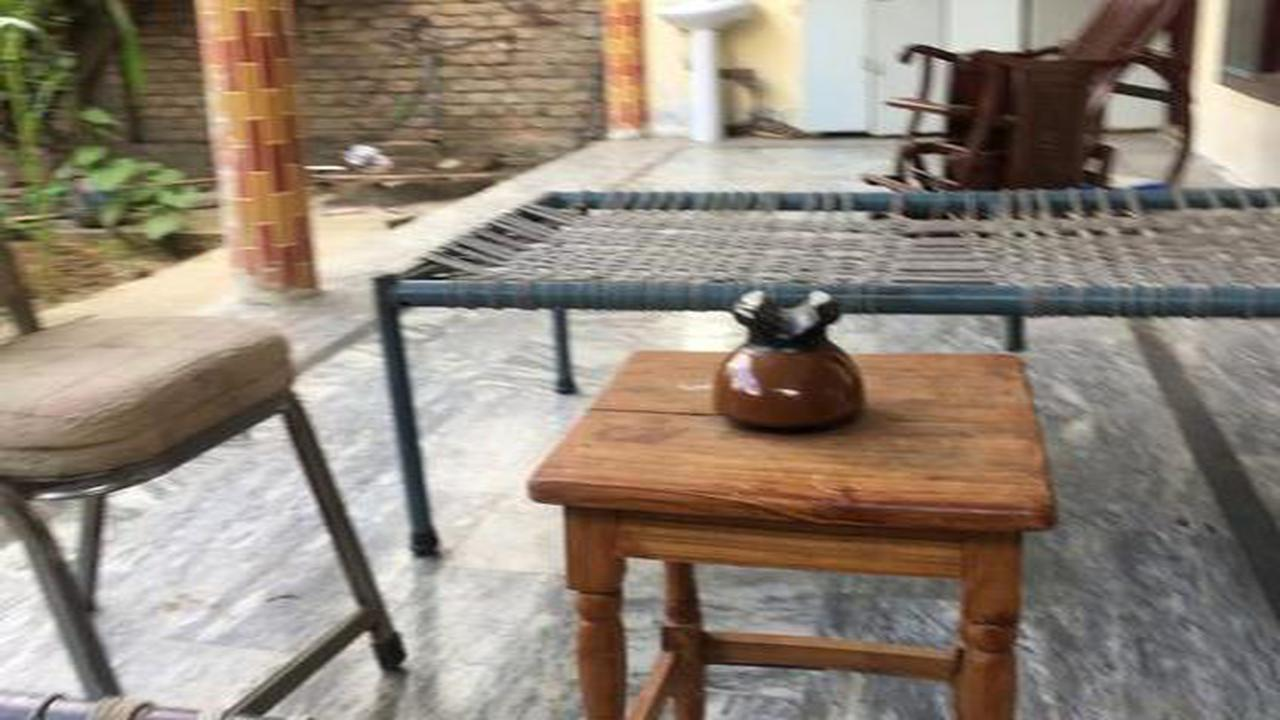insulator_pin: (702, 272, 884, 444)
